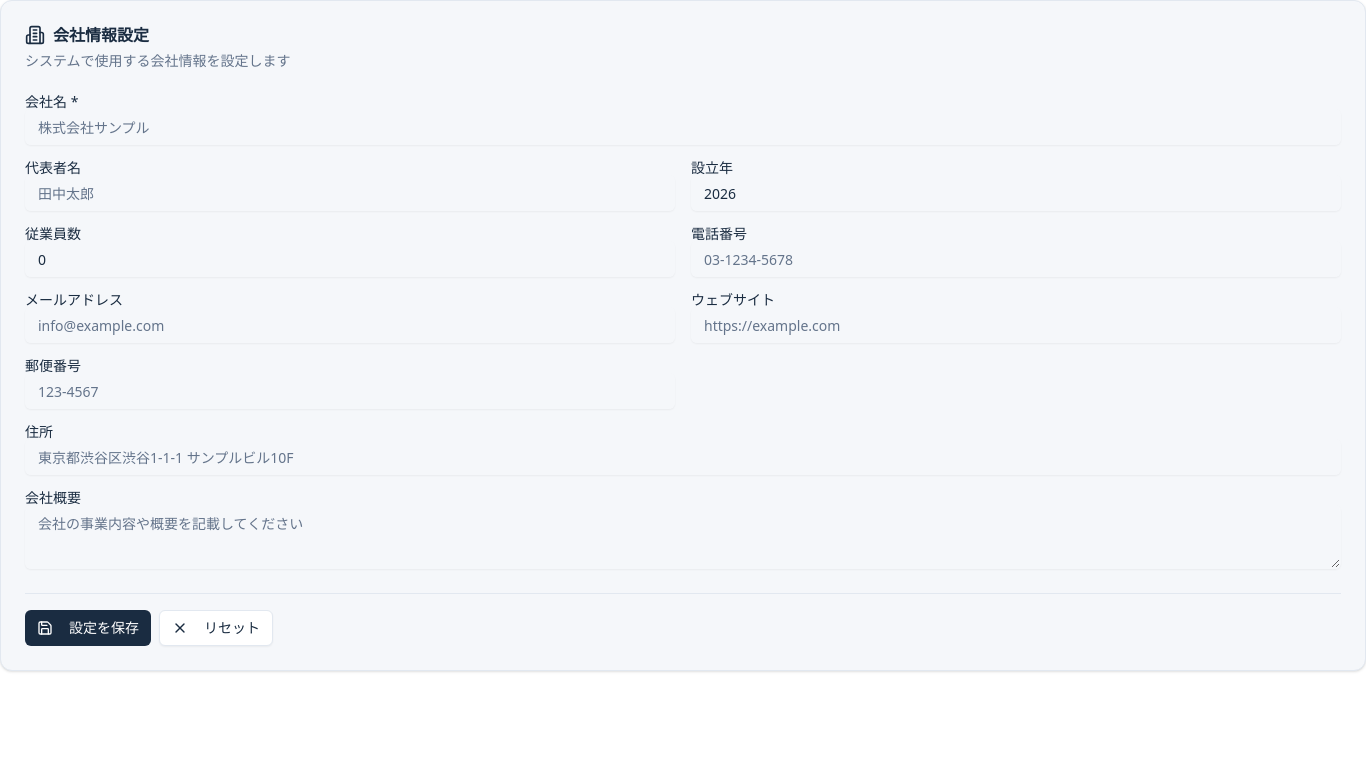
Scenario: CompanySettings › resets form when reset button is clicked
Type "テスト株式会社" into the field labelled "会社名 *".
click(683, 127); type("テスト株式会社")  # box [25,109,1341,145]
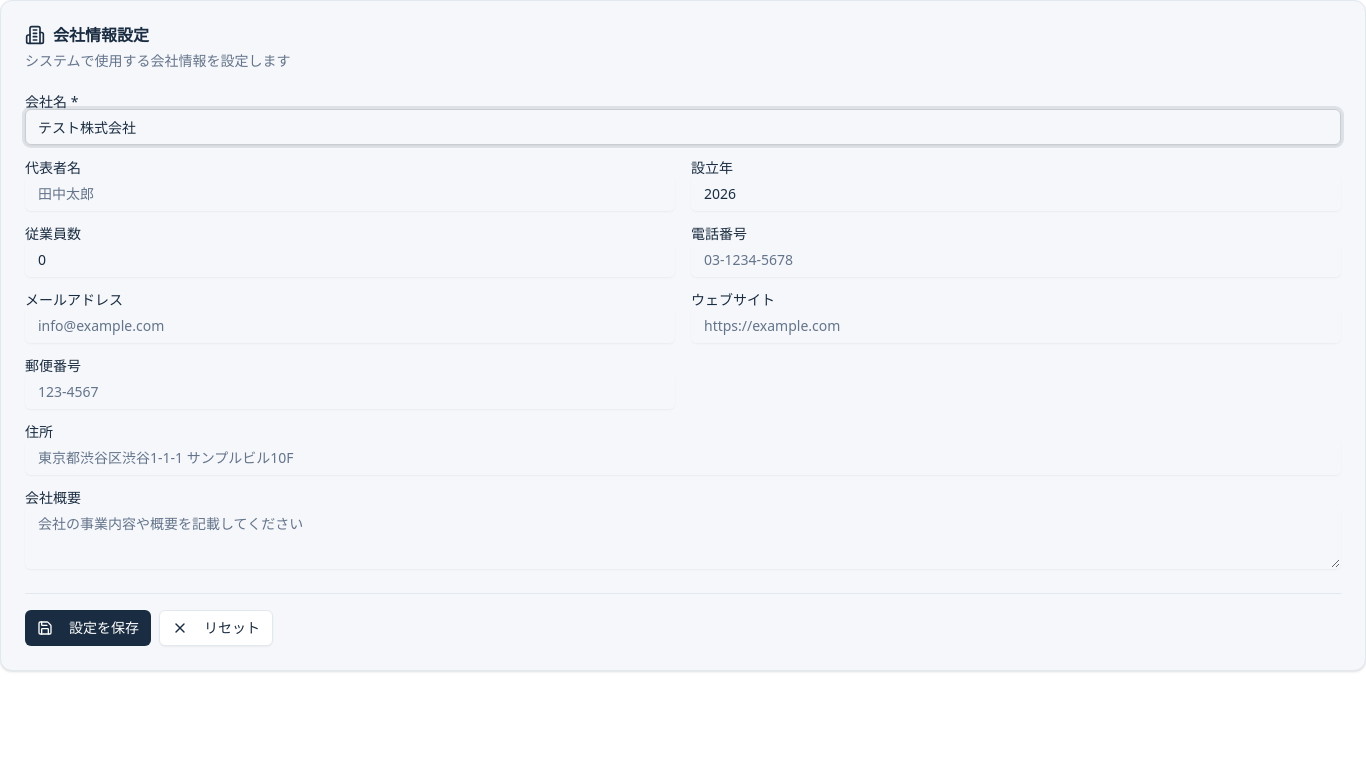
Click the button "リセット".
click(216, 628)  # box [159,610,273,646]
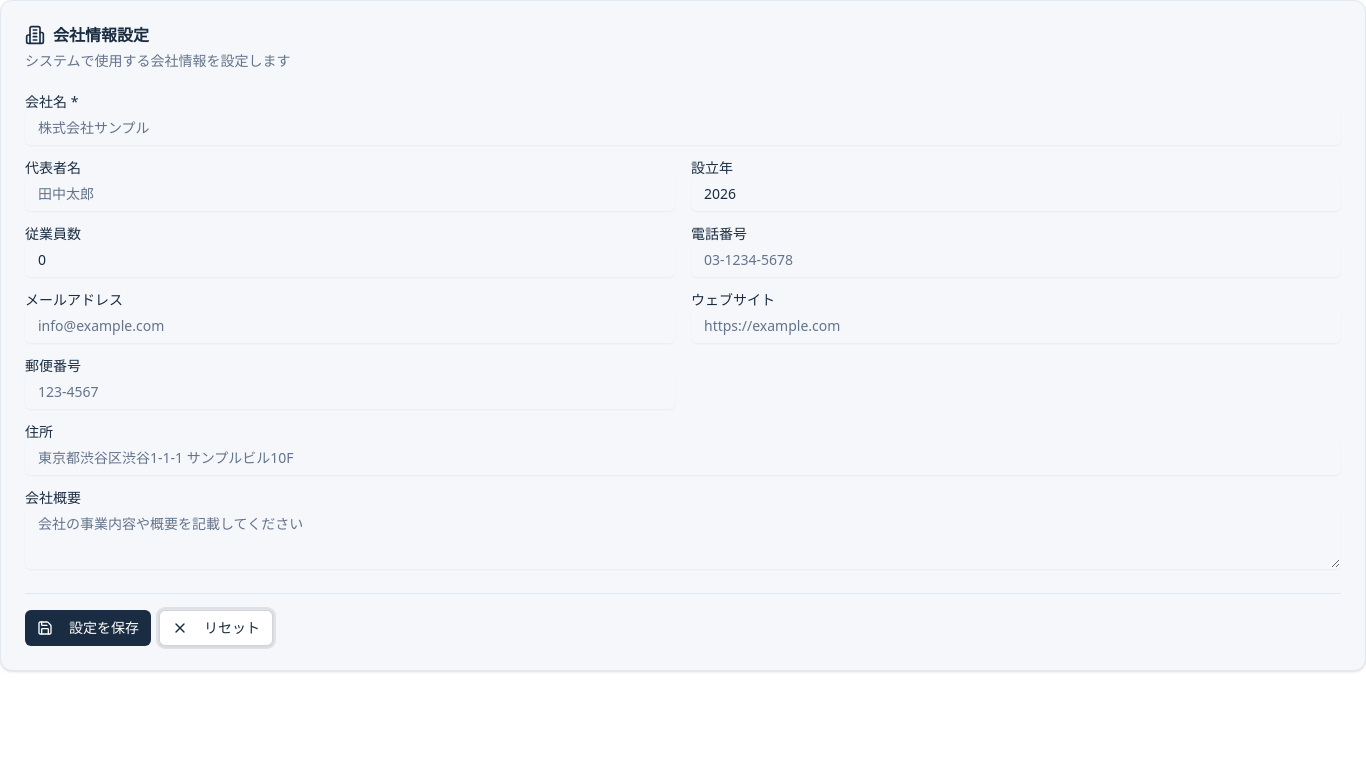
Expected: the field labelled "会社名 *" is empty, [25,109,1341,145]
